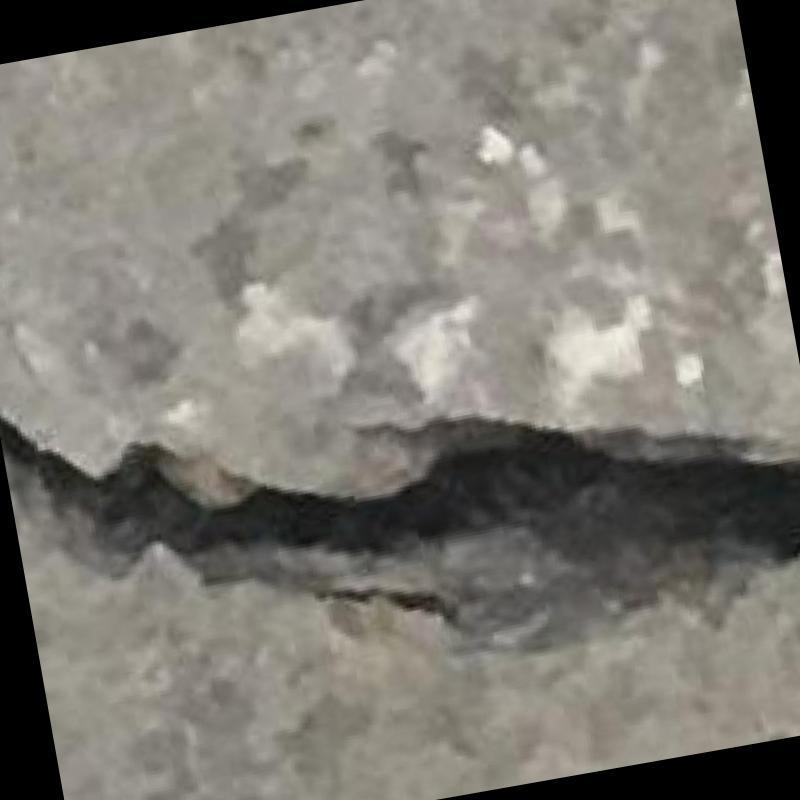pothole: (0, 415, 800, 653)
